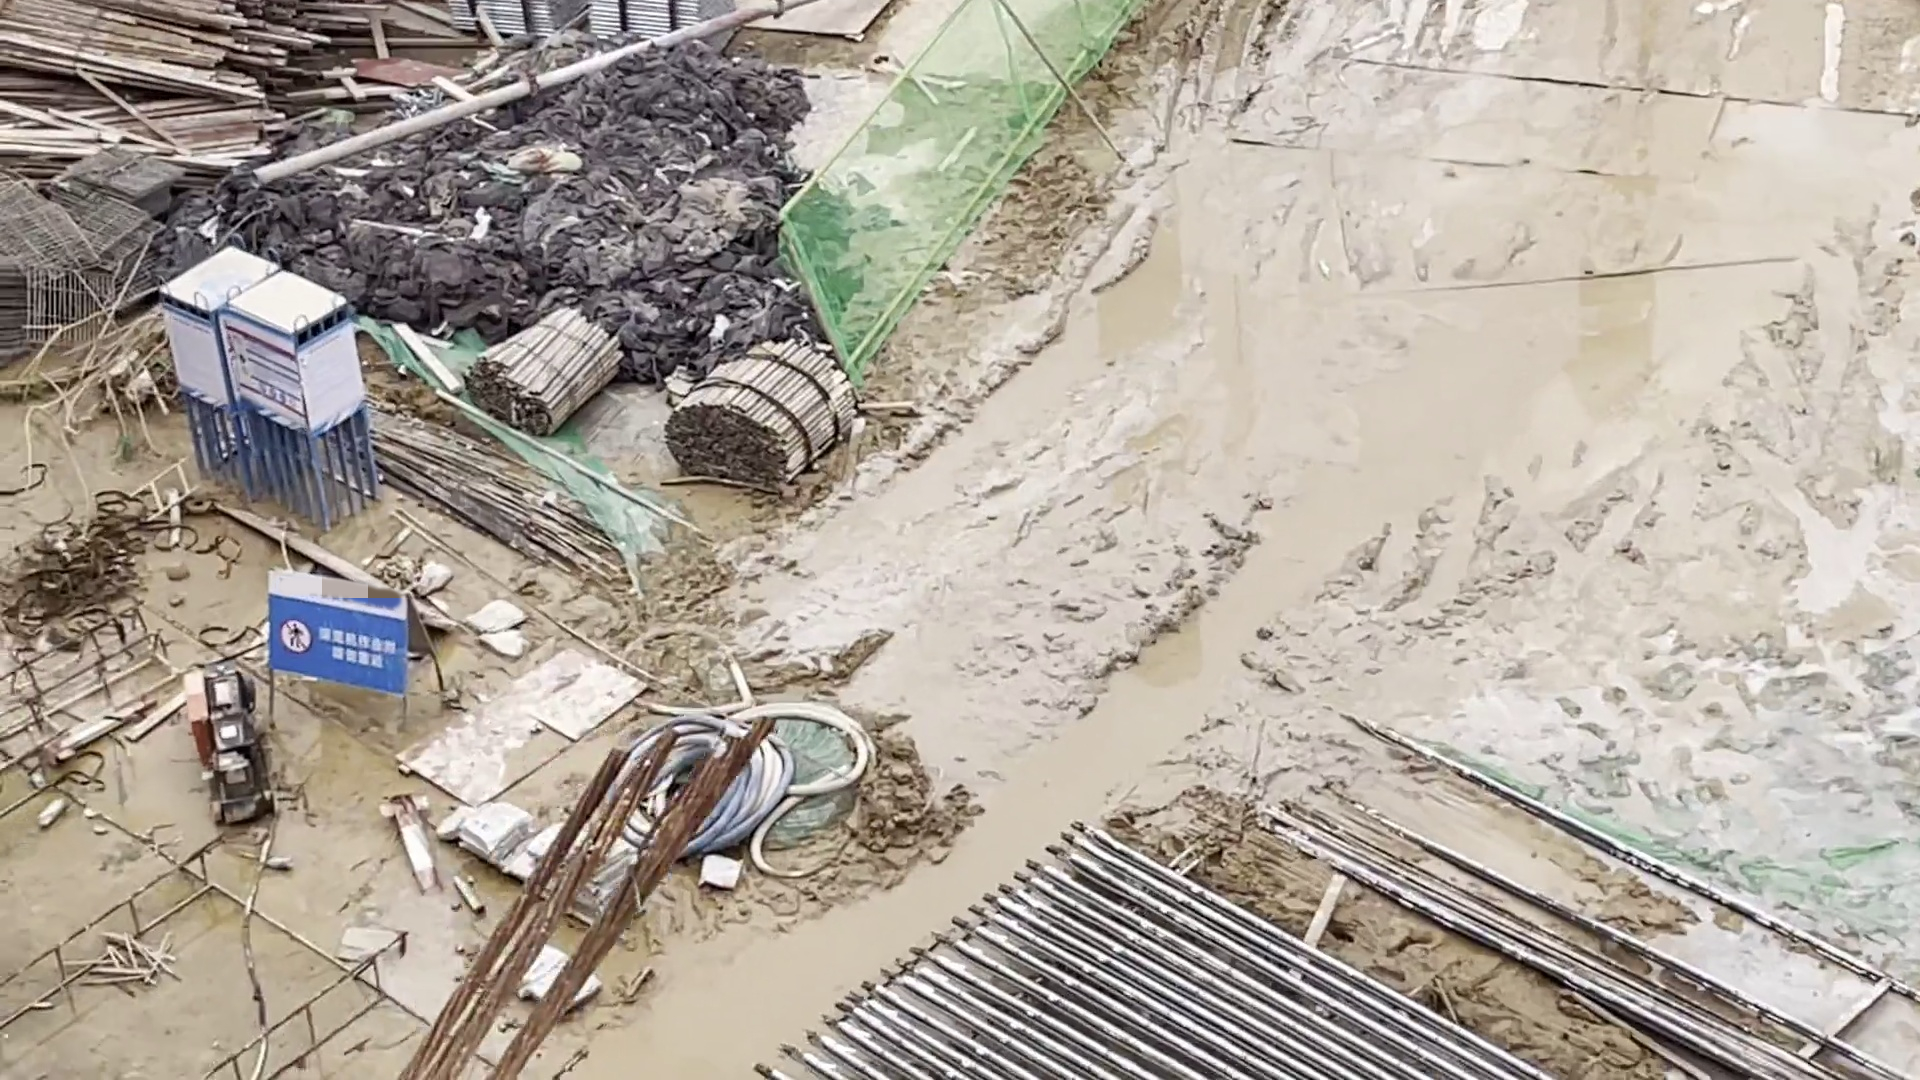scaffold: (588, 1, 746, 63), (440, 1, 585, 41)
slogan: (266, 597, 414, 705)
wood: (659, 338, 858, 485), (460, 301, 625, 434)
